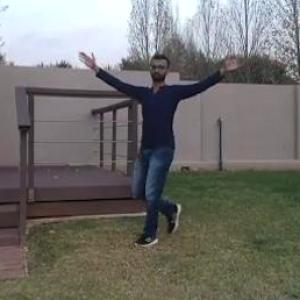takeoff: (85, 47, 251, 251)
